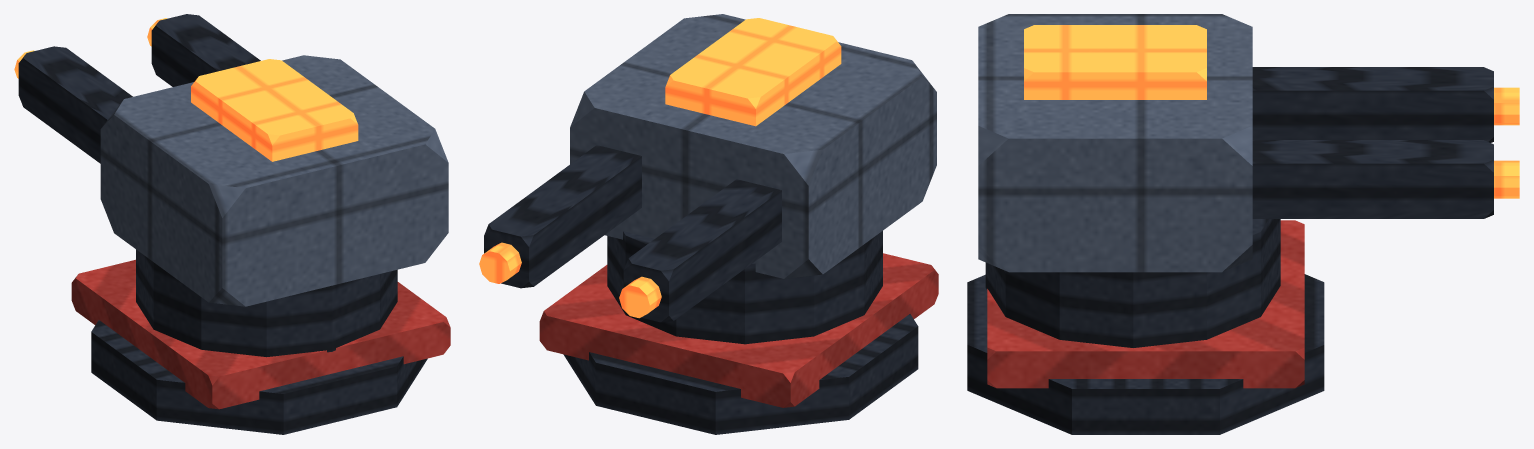
File: eq_laser_cannon.glb
The picture shows the model from 3 angles, left to right: view 1: azimuth 30°, elevation 25°; view 2: azimuth 150°, elevation 25°; view 3: azimuth 270°, elevation 25°; orthographic projection. The views are drawn at different scales.
Visible parts, largest first — view 1: eq_laser_cannon; view 2: eq_laser_cannon; view 3: eq_laser_cannon.
Boxes of the visible parts, x1,y1,x2,y2 form: eq_laser_cannon: (14, 14, 450, 434); eq_laser_cannon: (479, 14, 938, 434); eq_laser_cannon: (967, 14, 1519, 434).
Size of the model in its own units: 1.4 by 1.35 by 2.17.
1 material, 1 textured.
